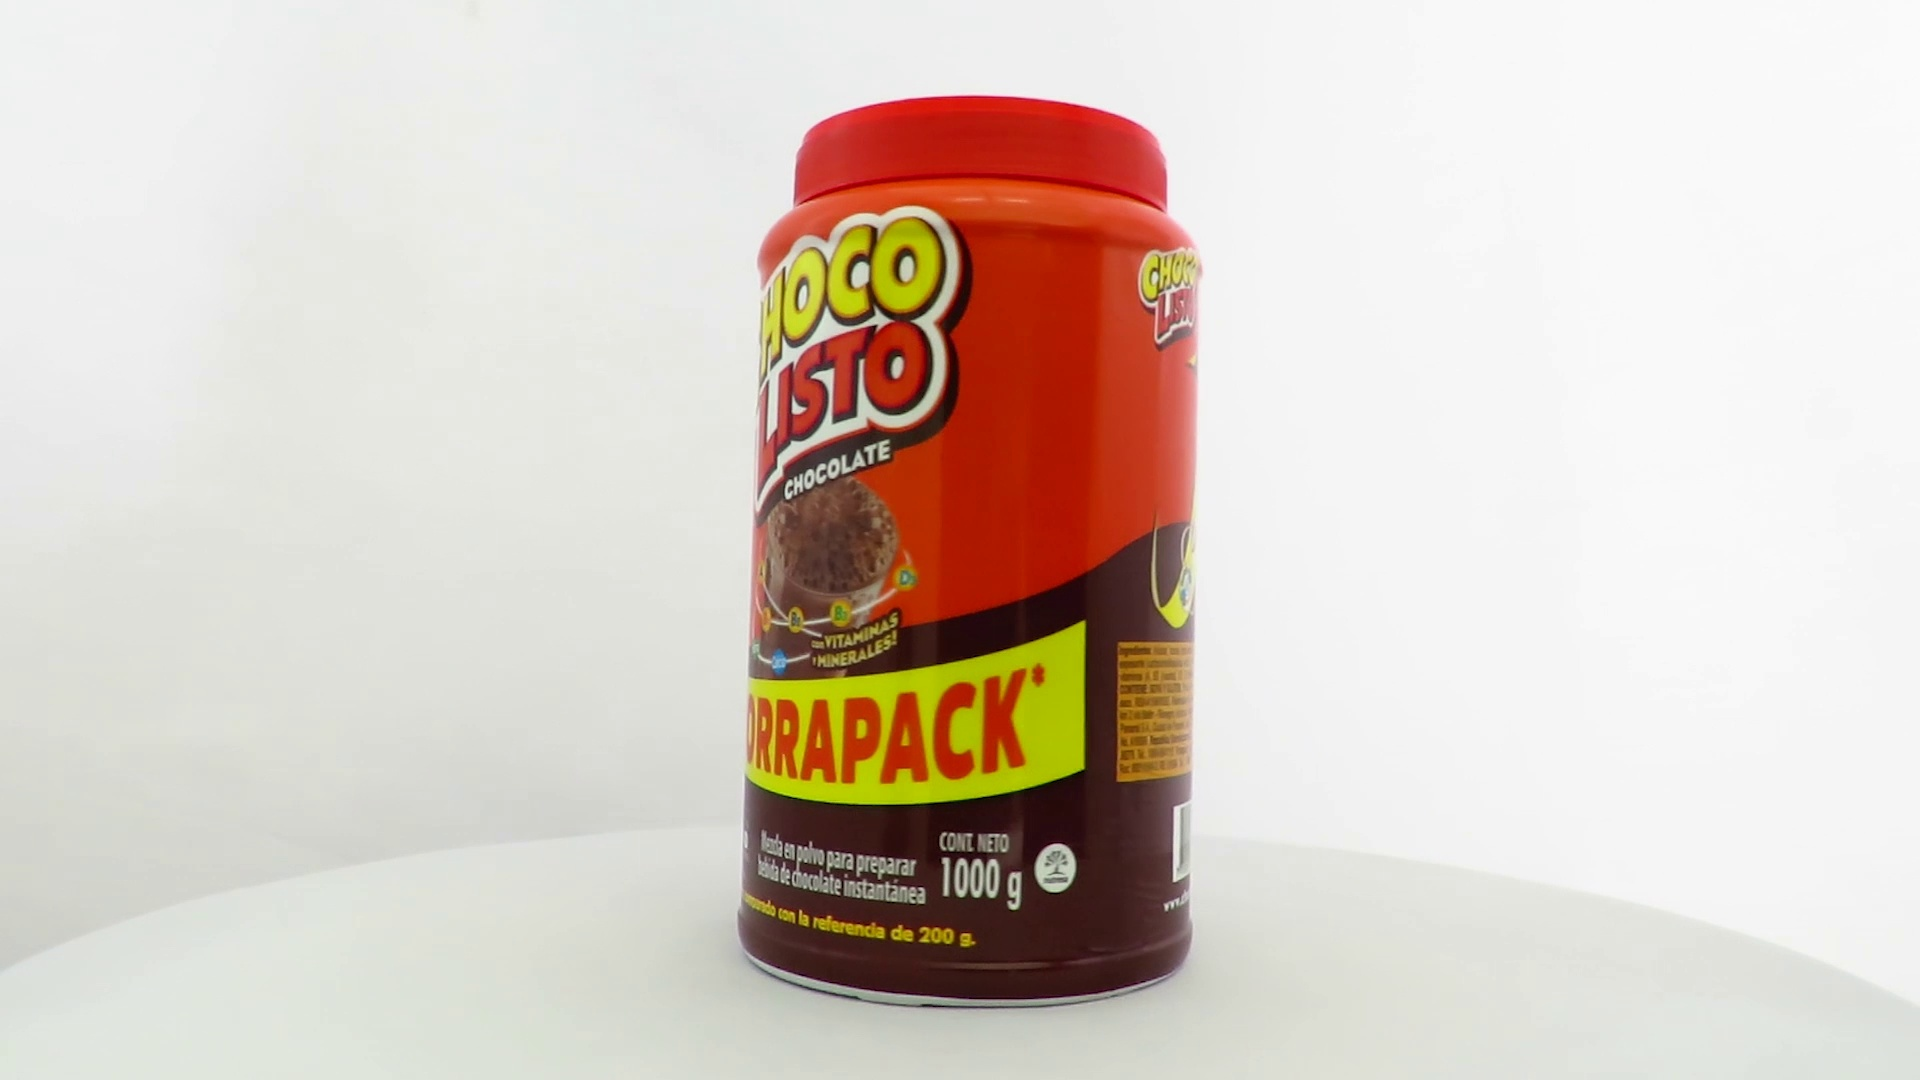COL0170103TRR00100: (732, 90, 1205, 1015)
